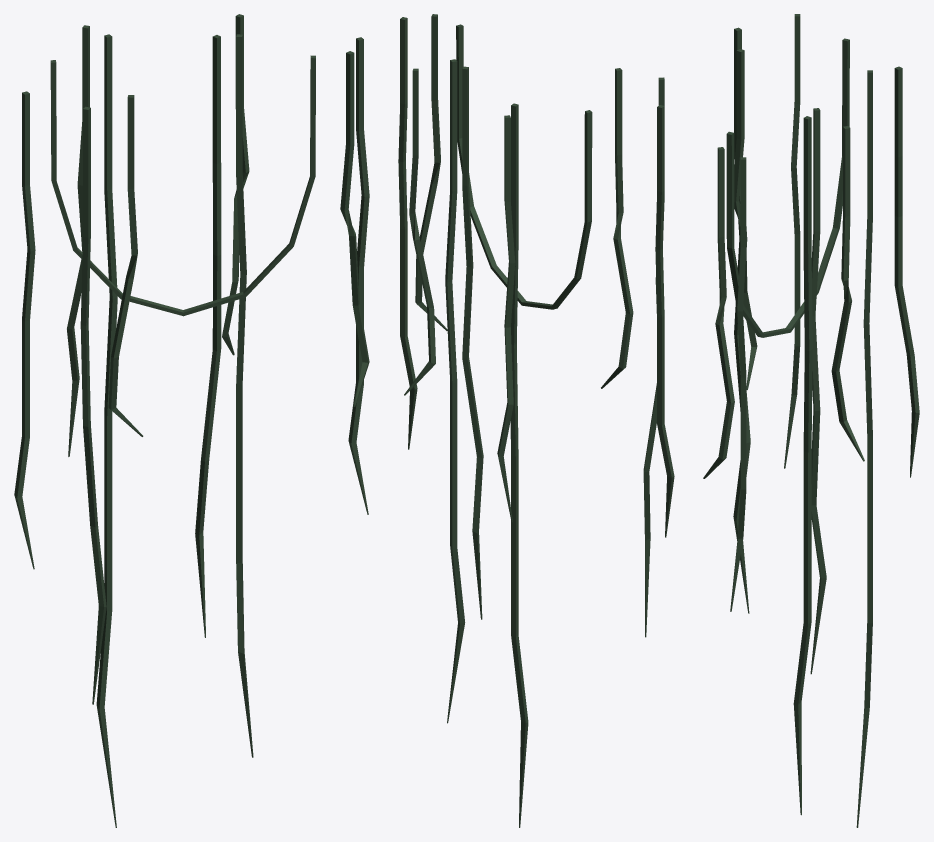
File: SM_Env_Tree_Vines_05.glb
3 renders of one model, left to right at view 1: azimuth 30°, elevation 25°; view 2: azimuth 150°, elevation 25°; view 3: azimuth 270°, elevation 25°, orthographic. The views are drawn at different scales.
Visible parts, largest first — view 1: SM_Env_Tree_Vines_05_part00; view 2: SM_Env_Tree_Vines_05_part00; view 3: SM_Env_Tree_Vines_05_part00.
Boxes of the visible parts, box(x1,y1,x2,y2) form: SM_Env_Tree_Vines_05_part00: box(14, 14, 369, 827); SM_Env_Tree_Vines_05_part00: box(398, 14, 674, 827); SM_Env_Tree_Vines_05_part00: box(703, 14, 919, 827).
Bounding box in the file's own units: 2.19 × 5.09 × 1.32.
Materials: 1 (1 with a texture image).
